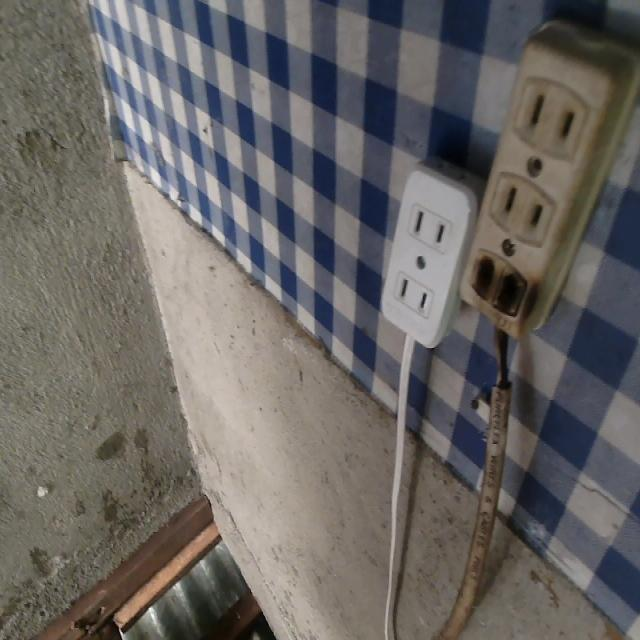-: (460, 238, 539, 326)
